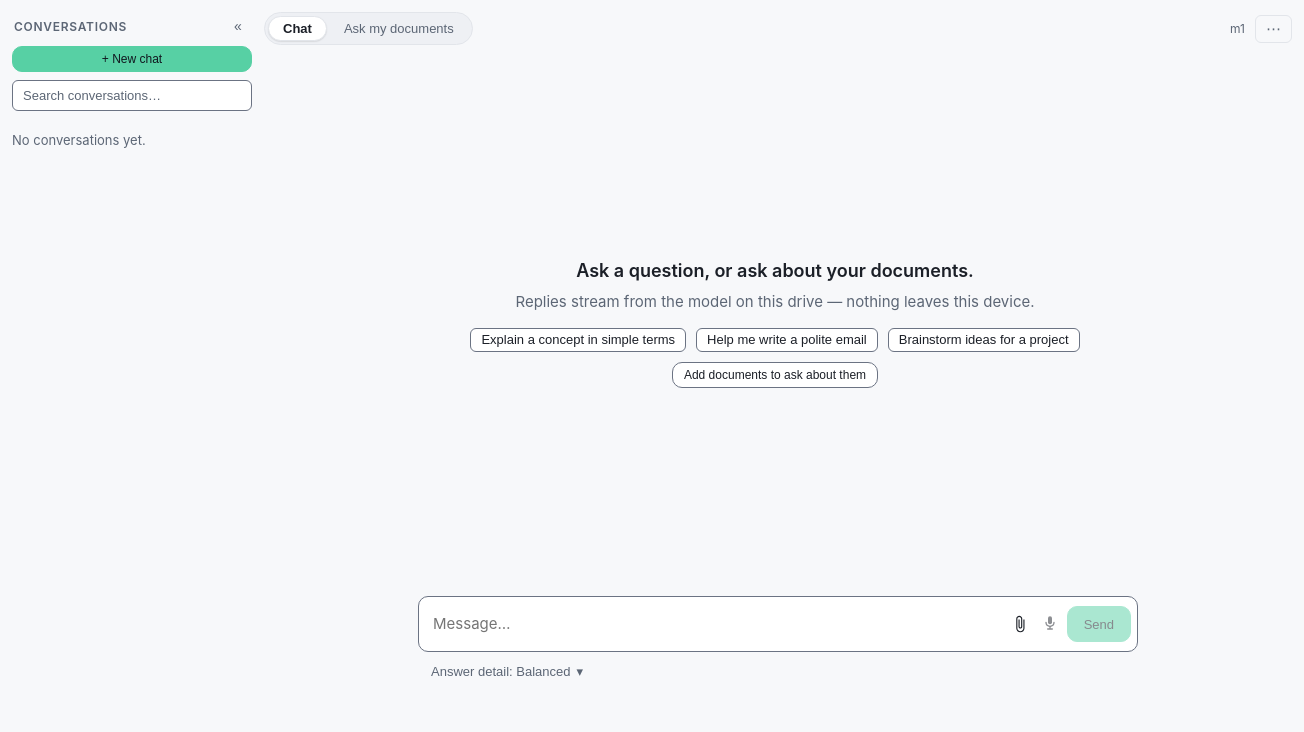
Test: ChatScreen — the "new"-composer pick is cleared after being carried (SKA-18) › a failed "+ New chat" surfaces on the error banner (CODE-30)
Click the button "+ New chat". click: (132, 59)
box: top-left (12, 46), bottom-right (252, 72)
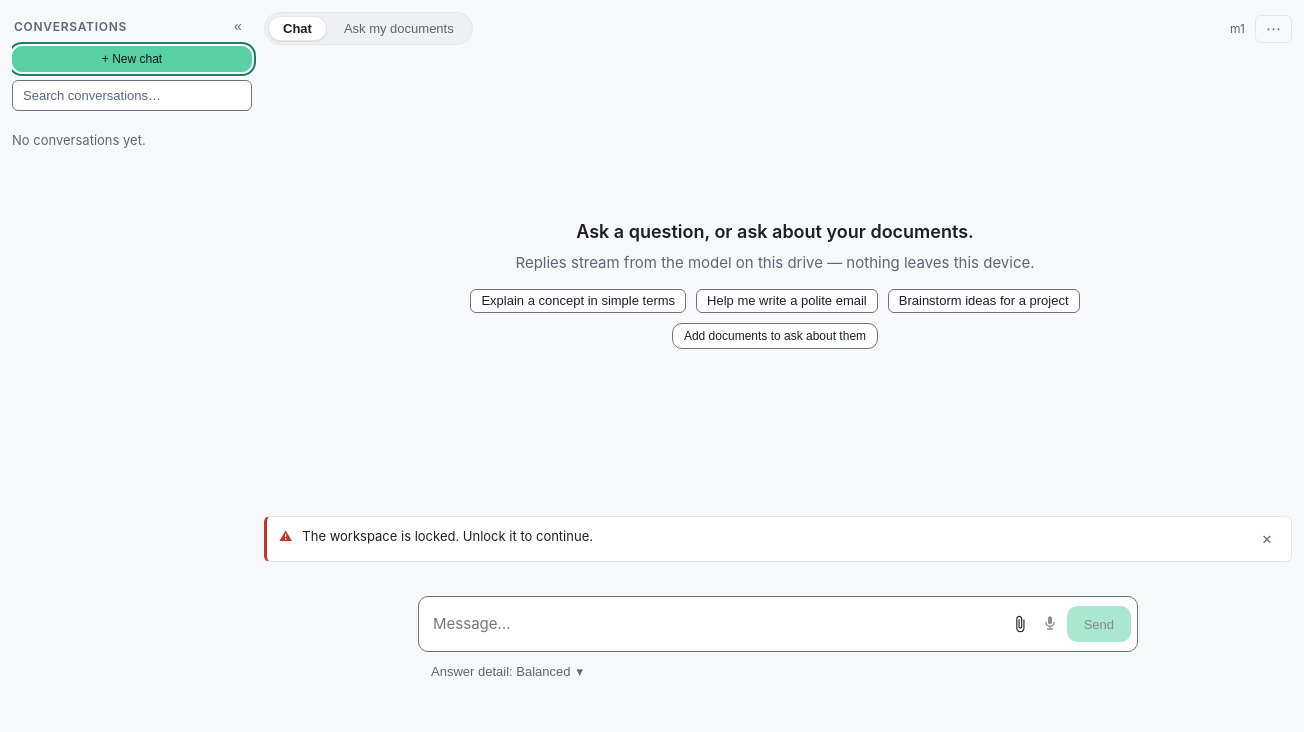
expect the text "The workspace is locked. Unlock it to continue." is shown: met, box top-left (302, 528), bottom-right (593, 544)
